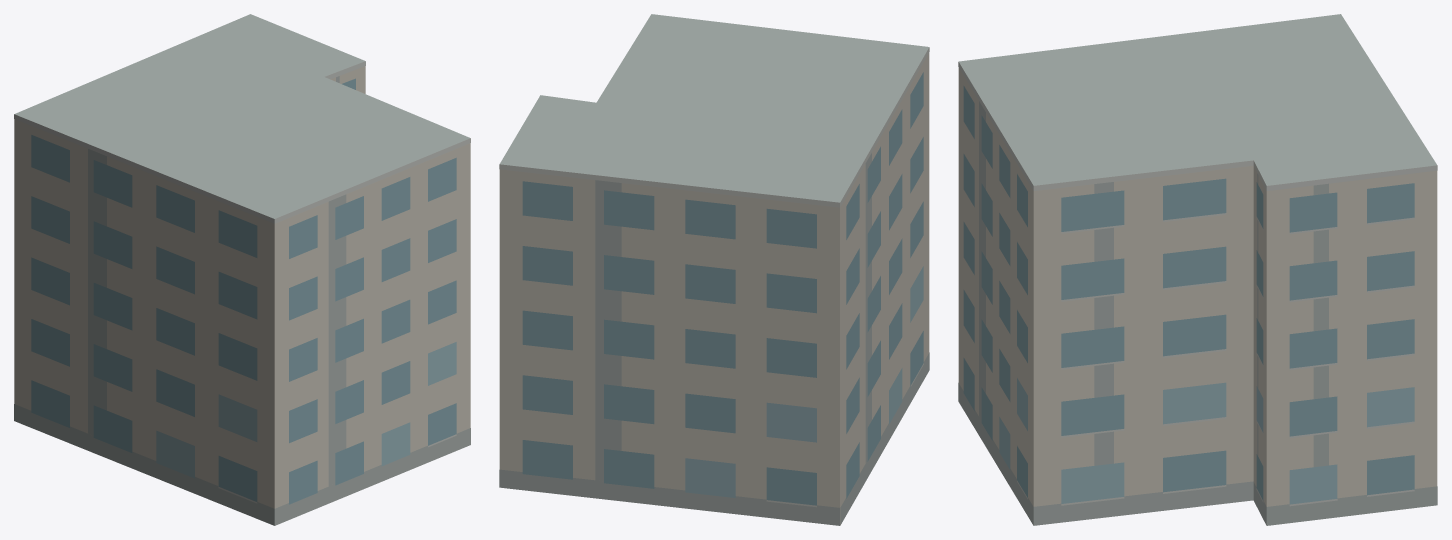
File: survey-upis-32560990.glb
3 views of the same model, side by side, from view 1: azimuth 30°, elevation 25°; view 2: azimuth 150°, elevation 25°; view 3: azimuth 270°, elevation 25° (orthographic). The views are drawn at different scales.
Visible parts, largest first — view 1: survey-upis-32560990.tmp; view 2: survey-upis-32560990.tmp; view 3: survey-upis-32560990.tmp.
Boxes of the visible parts, x1,y1,x2,y2 form: survey-upis-32560990.tmp: (14,14,470,525); survey-upis-32560990.tmp: (499,14,929,525); survey-upis-32560990.tmp: (958,14,1437,525).
Bounding box in the file's own units: 17.04 × 15.7 × 20.06.
